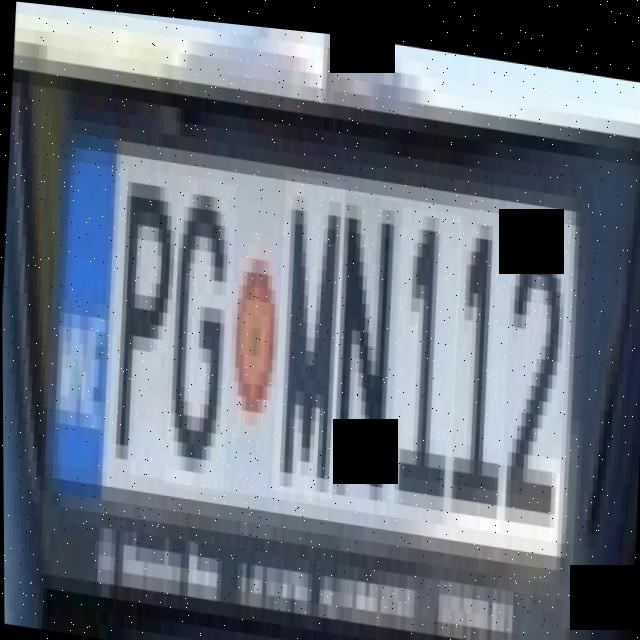1: (387, 197, 464, 503), (444, 213, 514, 523)
G: (162, 169, 239, 492)
M: (270, 166, 349, 494)
N: (329, 185, 403, 496)
P: (106, 162, 179, 491)
